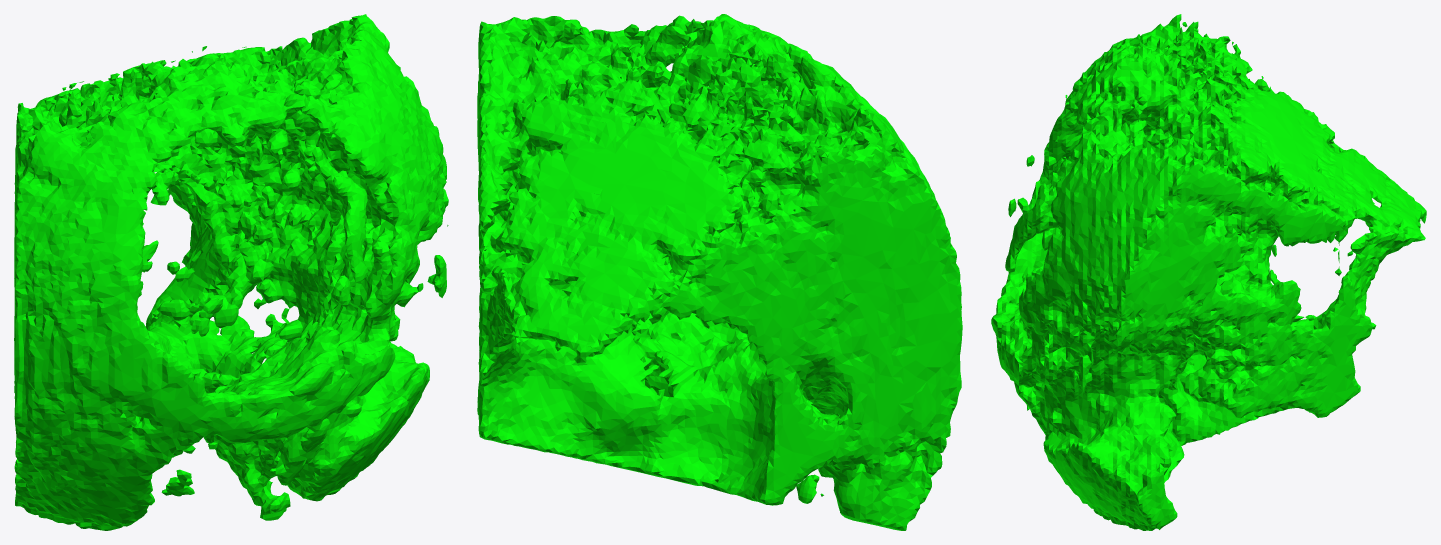
File: B939XXXX-1_base_11.obj
3 views of the same model, side by side, from view 1: azimuth 30°, elevation 25°; view 2: azimuth 150°, elevation 25°; view 3: azimuth 270°, elevation 25° (orthographic). The views are drawn at different scales.
Visible parts, largest first — view 1: 11_base; view 2: 11_base; view 3: 11_base.
Boxes of the visible parts, x1=… form: 11_base: x1=14, y1=14, x2=448, y2=530; 11_base: x1=477, y1=14, x2=962, y2=530; 11_base: x1=991, y1=14, x2=1426, y2=530.
Size of the model in its own units: 218 by 216 by 204.
